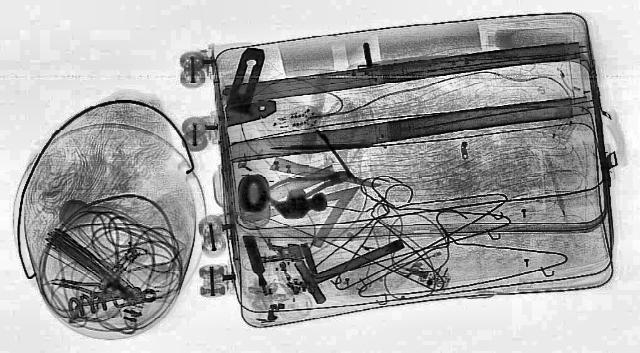Pliers: (255, 163, 358, 205)
